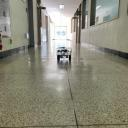cart: (57, 47, 72, 61)
